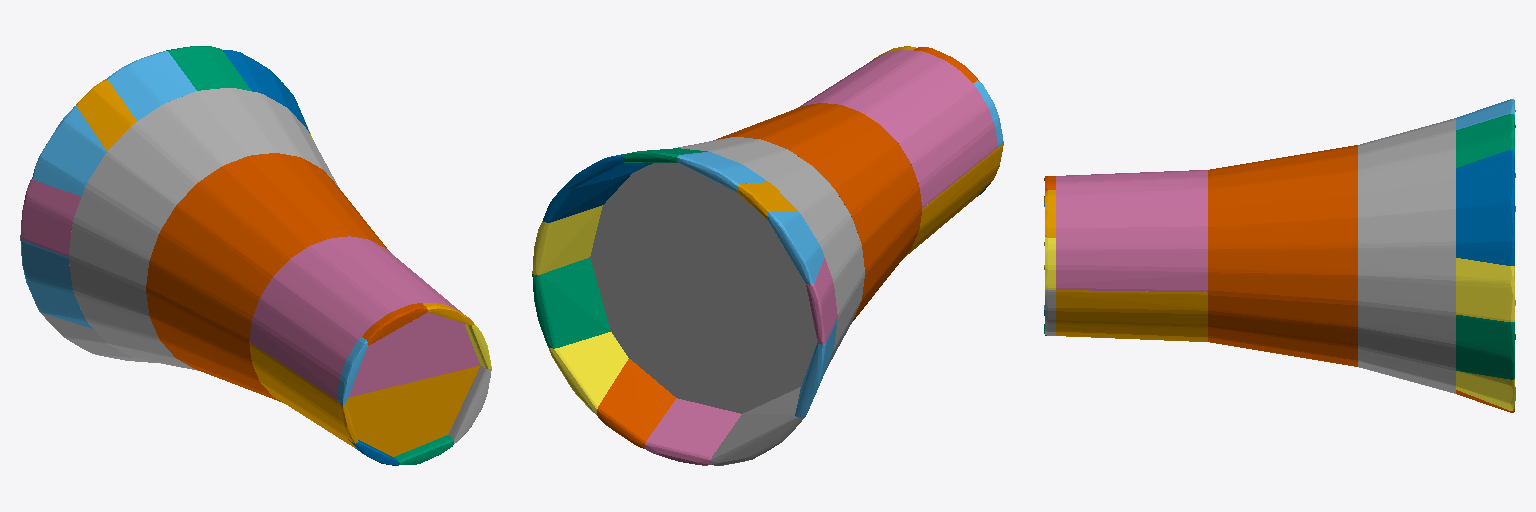
The robot description file, URDF, robot "root":
<robot name="root">
  <link name="link_convex_piece_018.obj">
    <inertial>
      <origin xyz="0 0 0" rpy="0 0 0"/>
    </inertial>
    <visual>
      <origin xyz="0 0 0" rpy="0 0 0"/>
      <geometry>
        <mesh filename="meshes/convex_piece_018.obj" scale="1.0 1.0 1.0"/>
      </geometry>
    </visual>
    <collision>
      <origin xyz="0 0 0" rpy="0 0 0"/>
      <geometry>
        <mesh filename="meshes/convex_piece_018.obj" scale="1.0 1.0 1.0"/>
      </geometry>
    </collision>
  </link>
  <link name="link_convex_piece_021.obj">
    <inertial>
      <origin xyz="0 0 0" rpy="0 0 0"/>
    </inertial>
    <visual>
      <origin xyz="0 0 0" rpy="0 0 0"/>
      <geometry>
        <mesh filename="meshes/convex_piece_021.obj" scale="1.0 1.0 1.0"/>
      </geometry>
    </visual>
    <collision>
      <origin xyz="0 0 0" rpy="0 0 0"/>
      <geometry>
        <mesh filename="meshes/convex_piece_021.obj" scale="1.0 1.0 1.0"/>
      </geometry>
    </collision>
  </link>
  <joint name="link_convex_piece_021.obj_joint" type="fixed">
    <origin xyz="0 0 0" rpy="0 0 0"/>
    <parent link="link_convex_piece_018.obj"/>
    <child link="link_convex_piece_021.obj"/>
  </joint>
  <link name="link_convex_piece_012.obj">
    <inertial>
      <origin xyz="0 0 0" rpy="0 0 0"/>
    </inertial>
    <visual>
      <origin xyz="0 0 0" rpy="0 0 0"/>
      <geometry>
        <mesh filename="meshes/convex_piece_012.obj" scale="1.0 1.0 1.0"/>
      </geometry>
    </visual>
    <collision>
      <origin xyz="0 0 0" rpy="0 0 0"/>
      <geometry>
        <mesh filename="meshes/convex_piece_012.obj" scale="1.0 1.0 1.0"/>
      </geometry>
    </collision>
  </link>
  <joint name="link_convex_piece_012.obj_joint" type="fixed">
    <origin xyz="0 0 0" rpy="0 0 0"/>
    <parent link="link_convex_piece_021.obj"/>
    <child link="link_convex_piece_012.obj"/>
  </joint>
  <link name="link_convex_piece_019.obj">
    <inertial>
      <origin xyz="0 0 0" rpy="0 0 0"/>
    </inertial>
    <visual>
      <origin xyz="0 0 0" rpy="0 0 0"/>
      <geometry>
        <mesh filename="meshes/convex_piece_019.obj" scale="1.0 1.0 1.0"/>
      </geometry>
    </visual>
    <collision>
      <origin xyz="0 0 0" rpy="0 0 0"/>
      <geometry>
        <mesh filename="meshes/convex_piece_019.obj" scale="1.0 1.0 1.0"/>
      </geometry>
    </collision>
  </link>
  <joint name="link_convex_piece_019.obj_joint" type="fixed">
    <origin xyz="0 0 0" rpy="0 0 0"/>
    <parent link="link_convex_piece_012.obj"/>
    <child link="link_convex_piece_019.obj"/>
  </joint>
  <link name="link_convex_piece_014.obj">
    <inertial>
      <origin xyz="0 0 0" rpy="0 0 0"/>
    </inertial>
    <visual>
      <origin xyz="0 0 0" rpy="0 0 0"/>
      <geometry>
        <mesh filename="meshes/convex_piece_014.obj" scale="1.0 1.0 1.0"/>
      </geometry>
    </visual>
    <collision>
      <origin xyz="0 0 0" rpy="0 0 0"/>
      <geometry>
        <mesh filename="meshes/convex_piece_014.obj" scale="1.0 1.0 1.0"/>
      </geometry>
    </collision>
  </link>
  <joint name="link_convex_piece_014.obj_joint" type="fixed">
    <origin xyz="0 0 0" rpy="0 0 0"/>
    <parent link="link_convex_piece_019.obj"/>
    <child link="link_convex_piece_014.obj"/>
  </joint>
  <link name="link_convex_piece_020.obj">
    <inertial>
      <origin xyz="0 0 0" rpy="0 0 0"/>
    </inertial>
    <visual>
      <origin xyz="0 0 0" rpy="0 0 0"/>
      <geometry>
        <mesh filename="meshes/convex_piece_020.obj" scale="1.0 1.0 1.0"/>
      </geometry>
    </visual>
    <collision>
      <origin xyz="0 0 0" rpy="0 0 0"/>
      <geometry>
        <mesh filename="meshes/convex_piece_020.obj" scale="1.0 1.0 1.0"/>
      </geometry>
    </collision>
  </link>
  <joint name="link_convex_piece_020.obj_joint" type="fixed">
    <origin xyz="0 0 0" rpy="0 0 0"/>
    <parent link="link_convex_piece_014.obj"/>
    <child link="link_convex_piece_020.obj"/>
  </joint>
  <link name="link_convex_piece_004.obj">
    <inertial>
      <origin xyz="0 0 0" rpy="0 0 0"/>
    </inertial>
    <visual>
      <origin xyz="0 0 0" rpy="0 0 0"/>
      <geometry>
        <mesh filename="meshes/convex_piece_004.obj" scale="1.0 1.0 1.0"/>
      </geometry>
    </visual>
    <collision>
      <origin xyz="0 0 0" rpy="0 0 0"/>
      <geometry>
        <mesh filename="meshes/convex_piece_004.obj" scale="1.0 1.0 1.0"/>
      </geometry>
    </collision>
  </link>
  <joint name="link_convex_piece_004.obj_joint" type="fixed">
    <origin xyz="0 0 0" rpy="0 0 0"/>
    <parent link="link_convex_piece_020.obj"/>
    <child link="link_convex_piece_004.obj"/>
  </joint>
  <link name="link_convex_piece_001.obj">
    <inertial>
      <origin xyz="0 0 0" rpy="0 0 0"/>
    </inertial>
    <visual>
      <origin xyz="0 0 0" rpy="0 0 0"/>
      <geometry>
        <mesh filename="meshes/convex_piece_001.obj" scale="1.0 1.0 1.0"/>
      </geometry>
    </visual>
    <collision>
      <origin xyz="0 0 0" rpy="0 0 0"/>
      <geometry>
        <mesh filename="meshes/convex_piece_001.obj" scale="1.0 1.0 1.0"/>
      </geometry>
    </collision>
  </link>
  <joint name="link_convex_piece_001.obj_joint" type="fixed">
    <origin xyz="0 0 0" rpy="0 0 0"/>
    <parent link="link_convex_piece_004.obj"/>
    <child link="link_convex_piece_001.obj"/>
  </joint>
  <link name="link_convex_piece_015.obj">
    <inertial>
      <origin xyz="0 0 0" rpy="0 0 0"/>
    </inertial>
    <visual>
      <origin xyz="0 0 0" rpy="0 0 0"/>
      <geometry>
        <mesh filename="meshes/convex_piece_015.obj" scale="1.0 1.0 1.0"/>
      </geometry>
    </visual>
    <collision>
      <origin xyz="0 0 0" rpy="0 0 0"/>
      <geometry>
        <mesh filename="meshes/convex_piece_015.obj" scale="1.0 1.0 1.0"/>
      </geometry>
    </collision>
  </link>
  <joint name="link_convex_piece_015.obj_joint" type="fixed">
    <origin xyz="0 0 0" rpy="0 0 0"/>
    <parent link="link_convex_piece_001.obj"/>
    <child link="link_convex_piece_015.obj"/>
  </joint>
  <link name="link_convex_piece_005.obj">
    <inertial>
      <origin xyz="0 0 0" rpy="0 0 0"/>
    </inertial>
    <visual>
      <origin xyz="0 0 0" rpy="0 0 0"/>
      <geometry>
        <mesh filename="meshes/convex_piece_005.obj" scale="1.0 1.0 1.0"/>
      </geometry>
    </visual>
    <collision>
      <origin xyz="0 0 0" rpy="0 0 0"/>
      <geometry>
        <mesh filename="meshes/convex_piece_005.obj" scale="1.0 1.0 1.0"/>
      </geometry>
    </collision>
  </link>
  <joint name="link_convex_piece_005.obj_joint" type="fixed">
    <origin xyz="0 0 0" rpy="0 0 0"/>
    <parent link="link_convex_piece_015.obj"/>
    <child link="link_convex_piece_005.obj"/>
  </joint>
  <link name="link_convex_piece_024.obj">
    <inertial>
      <origin xyz="0 0 0" rpy="0 0 0"/>
    </inertial>
    <visual>
      <origin xyz="0 0 0" rpy="0 0 0"/>
      <geometry>
        <mesh filename="meshes/convex_piece_024.obj" scale="1.0 1.0 1.0"/>
      </geometry>
    </visual>
    <collision>
      <origin xyz="0 0 0" rpy="0 0 0"/>
      <geometry>
        <mesh filename="meshes/convex_piece_024.obj" scale="1.0 1.0 1.0"/>
      </geometry>
    </collision>
  </link>
  <joint name="link_convex_piece_024.obj_joint" type="fixed">
    <origin xyz="0 0 0" rpy="0 0 0"/>
    <parent link="link_convex_piece_005.obj"/>
    <child link="link_convex_piece_024.obj"/>
  </joint>
  <link name="link_convex_piece_013.obj">
    <inertial>
      <origin xyz="0 0 0" rpy="0 0 0"/>
    </inertial>
    <visual>
      <origin xyz="0 0 0" rpy="0 0 0"/>
      <geometry>
        <mesh filename="meshes/convex_piece_013.obj" scale="1.0 1.0 1.0"/>
      </geometry>
    </visual>
    <collision>
      <origin xyz="0 0 0" rpy="0 0 0"/>
      <geometry>
        <mesh filename="meshes/convex_piece_013.obj" scale="1.0 1.0 1.0"/>
      </geometry>
    </collision>
  </link>
  <joint name="link_convex_piece_013.obj_joint" type="fixed">
    <origin xyz="0 0 0" rpy="0 0 0"/>
    <parent link="link_convex_piece_024.obj"/>
    <child link="link_convex_piece_013.obj"/>
  </joint>
  <link name="link_convex_piece_002.obj">
    <inertial>
      <origin xyz="0 0 0" rpy="0 0 0"/>
    </inertial>
    <visual>
      <origin xyz="0 0 0" rpy="0 0 0"/>
      <geometry>
        <mesh filename="meshes/convex_piece_002.obj" scale="1.0 1.0 1.0"/>
      </geometry>
    </visual>
    <collision>
      <origin xyz="0 0 0" rpy="0 0 0"/>
      <geometry>
        <mesh filename="meshes/convex_piece_002.obj" scale="1.0 1.0 1.0"/>
      </geometry>
    </collision>
  </link>
  <joint name="link_convex_piece_002.obj_joint" type="fixed">
    <origin xyz="0 0 0" rpy="0 0 0"/>
    <parent link="link_convex_piece_013.obj"/>
    <child link="link_convex_piece_002.obj"/>
  </joint>
  <link name="link_convex_piece_025.obj">
    <inertial>
      <origin xyz="0 0 0" rpy="0 0 0"/>
    </inertial>
    <visual>
      <origin xyz="0 0 0" rpy="0 0 0"/>
      <geometry>
        <mesh filename="meshes/convex_piece_025.obj" scale="1.0 1.0 1.0"/>
      </geometry>
    </visual>
    <collision>
      <origin xyz="0 0 0" rpy="0 0 0"/>
      <geometry>
        <mesh filename="meshes/convex_piece_025.obj" scale="1.0 1.0 1.0"/>
      </geometry>
    </collision>
  </link>
  <joint name="link_convex_piece_025.obj_joint" type="fixed">
    <origin xyz="0 0 0" rpy="0 0 0"/>
    <parent link="link_convex_piece_002.obj"/>
    <child link="link_convex_piece_025.obj"/>
  </joint>
  <link name="link_convex_piece_010.obj">
    <inertial>
      <origin xyz="0 0 0" rpy="0 0 0"/>
    </inertial>
    <visual>
      <origin xyz="0 0 0" rpy="0 0 0"/>
      <geometry>
        <mesh filename="meshes/convex_piece_010.obj" scale="1.0 1.0 1.0"/>
      </geometry>
    </visual>
    <collision>
      <origin xyz="0 0 0" rpy="0 0 0"/>
      <geometry>
        <mesh filename="meshes/convex_piece_010.obj" scale="1.0 1.0 1.0"/>
      </geometry>
    </collision>
  </link>
  <joint name="link_convex_piece_010.obj_joint" type="fixed">
    <origin xyz="0 0 0" rpy="0 0 0"/>
    <parent link="link_convex_piece_025.obj"/>
    <child link="link_convex_piece_010.obj"/>
  </joint>
  <link name="link_convex_piece_006.obj">
    <inertial>
      <origin xyz="0 0 0" rpy="0 0 0"/>
    </inertial>
    <visual>
      <origin xyz="0 0 0" rpy="0 0 0"/>
      <geometry>
        <mesh filename="meshes/convex_piece_006.obj" scale="1.0 1.0 1.0"/>
      </geometry>
    </visual>
    <collision>
      <origin xyz="0 0 0" rpy="0 0 0"/>
      <geometry>
        <mesh filename="meshes/convex_piece_006.obj" scale="1.0 1.0 1.0"/>
      </geometry>
    </collision>
  </link>
  <joint name="link_convex_piece_006.obj_joint" type="fixed">
    <origin xyz="0 0 0" rpy="0 0 0"/>
    <parent link="link_convex_piece_010.obj"/>
    <child link="link_convex_piece_006.obj"/>
  </joint>
  <link name="link_convex_piece_003.obj">
    <inertial>
      <origin xyz="0 0 0" rpy="0 0 0"/>
    </inertial>
    <visual>
      <origin xyz="0 0 0" rpy="0 0 0"/>
      <geometry>
        <mesh filename="meshes/convex_piece_003.obj" scale="1.0 1.0 1.0"/>
      </geometry>
    </visual>
    <collision>
      <origin xyz="0 0 0" rpy="0 0 0"/>
      <geometry>
        <mesh filename="meshes/convex_piece_003.obj" scale="1.0 1.0 1.0"/>
      </geometry>
    </collision>
  </link>
  <joint name="link_convex_piece_003.obj_joint" type="fixed">
    <origin xyz="0 0 0" rpy="0 0 0"/>
    <parent link="link_convex_piece_006.obj"/>
    <child link="link_convex_piece_003.obj"/>
  </joint>
  <link name="link_convex_piece_008.obj">
    <inertial>
      <origin xyz="0 0 0" rpy="0 0 0"/>
    </inertial>
    <visual>
      <origin xyz="0 0 0" rpy="0 0 0"/>
      <geometry>
        <mesh filename="meshes/convex_piece_008.obj" scale="1.0 1.0 1.0"/>
      </geometry>
    </visual>
    <collision>
      <origin xyz="0 0 0" rpy="0 0 0"/>
      <geometry>
        <mesh filename="meshes/convex_piece_008.obj" scale="1.0 1.0 1.0"/>
      </geometry>
    </collision>
  </link>
  <joint name="link_convex_piece_008.obj_joint" type="fixed">
    <origin xyz="0 0 0" rpy="0 0 0"/>
    <parent link="link_convex_piece_003.obj"/>
    <child link="link_convex_piece_008.obj"/>
  </joint>
  <link name="link_convex_piece_023.obj">
    <inertial>
      <origin xyz="0 0 0" rpy="0 0 0"/>
    </inertial>
    <visual>
      <origin xyz="0 0 0" rpy="0 0 0"/>
      <geometry>
        <mesh filename="meshes/convex_piece_023.obj" scale="1.0 1.0 1.0"/>
      </geometry>
    </visual>
    <collision>
      <origin xyz="0 0 0" rpy="0 0 0"/>
      <geometry>
        <mesh filename="meshes/convex_piece_023.obj" scale="1.0 1.0 1.0"/>
      </geometry>
    </collision>
  </link>
  <joint name="link_convex_piece_023.obj_joint" type="fixed">
    <origin xyz="0 0 0" rpy="0 0 0"/>
    <parent link="link_convex_piece_008.obj"/>
    <child link="link_convex_piece_023.obj"/>
  </joint>
  <link name="link_convex_piece_022.obj">
    <inertial>
      <origin xyz="0 0 0" rpy="0 0 0"/>
    </inertial>
    <visual>
      <origin xyz="0 0 0" rpy="0 0 0"/>
      <geometry>
        <mesh filename="meshes/convex_piece_022.obj" scale="1.0 1.0 1.0"/>
      </geometry>
    </visual>
    <collision>
      <origin xyz="0 0 0" rpy="0 0 0"/>
      <geometry>
        <mesh filename="meshes/convex_piece_022.obj" scale="1.0 1.0 1.0"/>
      </geometry>
    </collision>
  </link>
  <joint name="link_convex_piece_022.obj_joint" type="fixed">
    <origin xyz="0 0 0" rpy="0 0 0"/>
    <parent link="link_convex_piece_023.obj"/>
    <child link="link_convex_piece_022.obj"/>
  </joint>
  <link name="link_convex_piece_011.obj">
    <inertial>
      <origin xyz="0 0 0" rpy="0 0 0"/>
    </inertial>
    <visual>
      <origin xyz="0 0 0" rpy="0 0 0"/>
      <geometry>
        <mesh filename="meshes/convex_piece_011.obj" scale="1.0 1.0 1.0"/>
      </geometry>
    </visual>
    <collision>
      <origin xyz="0 0 0" rpy="0 0 0"/>
      <geometry>
        <mesh filename="meshes/convex_piece_011.obj" scale="1.0 1.0 1.0"/>
      </geometry>
    </collision>
  </link>
  <joint name="link_convex_piece_011.obj_joint" type="fixed">
    <origin xyz="0 0 0" rpy="0 0 0"/>
    <parent link="link_convex_piece_022.obj"/>
    <child link="link_convex_piece_011.obj"/>
  </joint>
  <link name="link_convex_piece_000.obj">
    <inertial>
      <origin xyz="0 0 0" rpy="0 0 0"/>
    </inertial>
    <visual>
      <origin xyz="0 0 0" rpy="0 0 0"/>
      <geometry>
        <mesh filename="meshes/convex_piece_000.obj" scale="1.0 1.0 1.0"/>
      </geometry>
    </visual>
    <collision>
      <origin xyz="0 0 0" rpy="0 0 0"/>
      <geometry>
        <mesh filename="meshes/convex_piece_000.obj" scale="1.0 1.0 1.0"/>
      </geometry>
    </collision>
  </link>
  <joint name="link_convex_piece_000.obj_joint" type="fixed">
    <origin xyz="0 0 0" rpy="0 0 0"/>
    <parent link="link_convex_piece_011.obj"/>
    <child link="link_convex_piece_000.obj"/>
  </joint>
  <link name="link_convex_piece_016.obj">
    <inertial>
      <origin xyz="0 0 0" rpy="0 0 0"/>
    </inertial>
    <visual>
      <origin xyz="0 0 0" rpy="0 0 0"/>
      <geometry>
        <mesh filename="meshes/convex_piece_016.obj" scale="1.0 1.0 1.0"/>
      </geometry>
    </visual>
    <collision>
      <origin xyz="0 0 0" rpy="0 0 0"/>
      <geometry>
        <mesh filename="meshes/convex_piece_016.obj" scale="1.0 1.0 1.0"/>
      </geometry>
    </collision>
  </link>
  <joint name="link_convex_piece_016.obj_joint" type="fixed">
    <origin xyz="0 0 0" rpy="0 0 0"/>
    <parent link="link_convex_piece_000.obj"/>
    <child link="link_convex_piece_016.obj"/>
  </joint>
  <link name="link_convex_piece_009.obj">
    <inertial>
      <origin xyz="0 0 0" rpy="0 0 0"/>
    </inertial>
    <visual>
      <origin xyz="0 0 0" rpy="0 0 0"/>
      <geometry>
        <mesh filename="meshes/convex_piece_009.obj" scale="1.0 1.0 1.0"/>
      </geometry>
    </visual>
    <collision>
      <origin xyz="0 0 0" rpy="0 0 0"/>
      <geometry>
        <mesh filename="meshes/convex_piece_009.obj" scale="1.0 1.0 1.0"/>
      </geometry>
    </collision>
  </link>
  <joint name="link_convex_piece_009.obj_joint" type="fixed">
    <origin xyz="0 0 0" rpy="0 0 0"/>
    <parent link="link_convex_piece_016.obj"/>
    <child link="link_convex_piece_009.obj"/>
  </joint>
  <link name="link_convex_piece_007.obj">
    <inertial>
      <origin xyz="0 0 0" rpy="0 0 0"/>
    </inertial>
    <visual>
      <origin xyz="0 0 0" rpy="0 0 0"/>
      <geometry>
        <mesh filename="meshes/convex_piece_007.obj" scale="1.0 1.0 1.0"/>
      </geometry>
    </visual>
    <collision>
      <origin xyz="0 0 0" rpy="0 0 0"/>
      <geometry>
        <mesh filename="meshes/convex_piece_007.obj" scale="1.0 1.0 1.0"/>
      </geometry>
    </collision>
  </link>
  <joint name="link_convex_piece_007.obj_joint" type="fixed">
    <origin xyz="0 0 0" rpy="0 0 0"/>
    <parent link="link_convex_piece_009.obj"/>
    <child link="link_convex_piece_007.obj"/>
  </joint>
  <link name="link_convex_piece_017.obj">
    <inertial>
      <origin xyz="0 0 0" rpy="0 0 0"/>
    </inertial>
    <visual>
      <origin xyz="0 0 0" rpy="0 0 0"/>
      <geometry>
        <mesh filename="meshes/convex_piece_017.obj" scale="1.0 1.0 1.0"/>
      </geometry>
    </visual>
    <collision>
      <origin xyz="0 0 0" rpy="0 0 0"/>
      <geometry>
        <mesh filename="meshes/convex_piece_017.obj" scale="1.0 1.0 1.0"/>
      </geometry>
    </collision>
  </link>
  <joint name="link_convex_piece_017.obj_joint" type="fixed">
    <origin xyz="0 0 0" rpy="0 0 0"/>
    <parent link="link_convex_piece_007.obj"/>
    <child link="link_convex_piece_017.obj"/>
  </joint>
</robot>

--- Render facts (derived) ---
Views: 3 orthographic renders of the robot side by side, from view 1: azimuth 30°, elevation 25°; view 2: azimuth 150°, elevation 25°; view 3: azimuth 270°, elevation 25°.
Robot: root — 26 links, 25 joints (25 fixed); root link link_convex_piece_018.obj; default pose: all joints at 0.
Links seen in each view (by area): view 1: link_convex_piece_000.obj, link_convex_piece_001.obj, link_convex_piece_004.obj, link_convex_piece_003.obj, link_convex_piece_008.obj, link_convex_piece_021.obj, link_convex_piece_005.obj, link_convex_piece_010.obj, link_convex_piece_024.obj, link_convex_piece_007.obj, link_convex_piece_011.obj, link_convex_piece_006.obj (+5 smaller); view 2: link_convex_piece_001.obj, link_convex_piece_000.obj, link_convex_piece_004.obj, link_convex_piece_012.obj, link_convex_piece_016.obj, link_convex_piece_020.obj, link_convex_piece_006.obj, link_convex_piece_013.obj, link_convex_piece_022.obj, link_convex_piece_003.obj, link_convex_piece_008.obj, link_convex_piece_014.obj (+6 smaller); view 3: link_convex_piece_000.obj, link_convex_piece_001.obj, link_convex_piece_004.obj, link_convex_piece_003.obj, link_convex_piece_012.obj, link_convex_piece_011.obj, link_convex_piece_022.obj, link_convex_piece_014.obj, link_convex_piece_024.obj, link_convex_piece_013.obj, link_convex_piece_021.obj, link_convex_piece_019.obj (+1 smaller).
Boxes of the visible links, bbox=[...] form: link_convex_piece_000.obj: bbox=[146, 153, 389, 402]; link_convex_piece_001.obj: bbox=[69, 88, 337, 370]; link_convex_piece_004.obj: bbox=[249, 236, 480, 399]; link_convex_piece_003.obj: bbox=[249, 342, 479, 456]; link_convex_piece_008.obj: bbox=[32, 106, 106, 196]; link_convex_piece_021.obj: bbox=[107, 51, 196, 120]; link_convex_piece_005.obj: bbox=[20, 238, 92, 328]; link_convex_piece_010.obj: bbox=[20, 179, 80, 256]; link_convex_piece_024.obj: bbox=[166, 46, 250, 90]; link_convex_piece_007.obj: bbox=[76, 79, 136, 150]; link_convex_piece_011.obj: bbox=[223, 50, 288, 108]; link_convex_piece_006.obj: bbox=[40, 312, 155, 362]; link_convex_piece_001.obj: bbox=[590, 137, 864, 413]; link_convex_piece_000.obj: bbox=[713, 103, 921, 323]; link_convex_piece_004.obj: bbox=[796, 50, 997, 208]; link_convex_piece_012.obj: bbox=[532, 257, 610, 348]; link_convex_piece_016.obj: bbox=[645, 398, 741, 465]; link_convex_piece_020.obj: bbox=[597, 359, 675, 448]; link_convex_piece_006.obj: bbox=[710, 387, 803, 465]; link_convex_piece_013.obj: bbox=[548, 332, 628, 414]; link_convex_piece_022.obj: bbox=[532, 205, 602, 274]; link_convex_piece_003.obj: bbox=[903, 148, 997, 258]; link_convex_piece_008.obj: bbox=[768, 211, 824, 284]; link_convex_piece_014.obj: bbox=[543, 173, 631, 222]; link_convex_piece_000.obj: bbox=[1208, 145, 1357, 366]; link_convex_piece_001.obj: bbox=[1358, 118, 1455, 393]; link_convex_piece_004.obj: bbox=[1056, 170, 1207, 292]; link_convex_piece_003.obj: bbox=[1056, 290, 1207, 341]; link_convex_piece_012.obj: bbox=[1456, 315, 1515, 379]; link_convex_piece_011.obj: bbox=[1456, 150, 1514, 219]; link_convex_piece_022.obj: bbox=[1456, 258, 1515, 321]; link_convex_piece_014.obj: bbox=[1456, 210, 1514, 265]; link_convex_piece_024.obj: bbox=[1456, 114, 1515, 167]; link_convex_piece_013.obj: bbox=[1456, 371, 1514, 410]; link_convex_piece_021.obj: bbox=[1456, 100, 1515, 129]; link_convex_piece_019.obj: bbox=[1044, 237, 1055, 289].
Size in the robot's own frame: 0.9787 by 1.47 by 0.9787 metres.
26 mesh visuals loaded from 26 distinct referenced files (26 OBJ).
